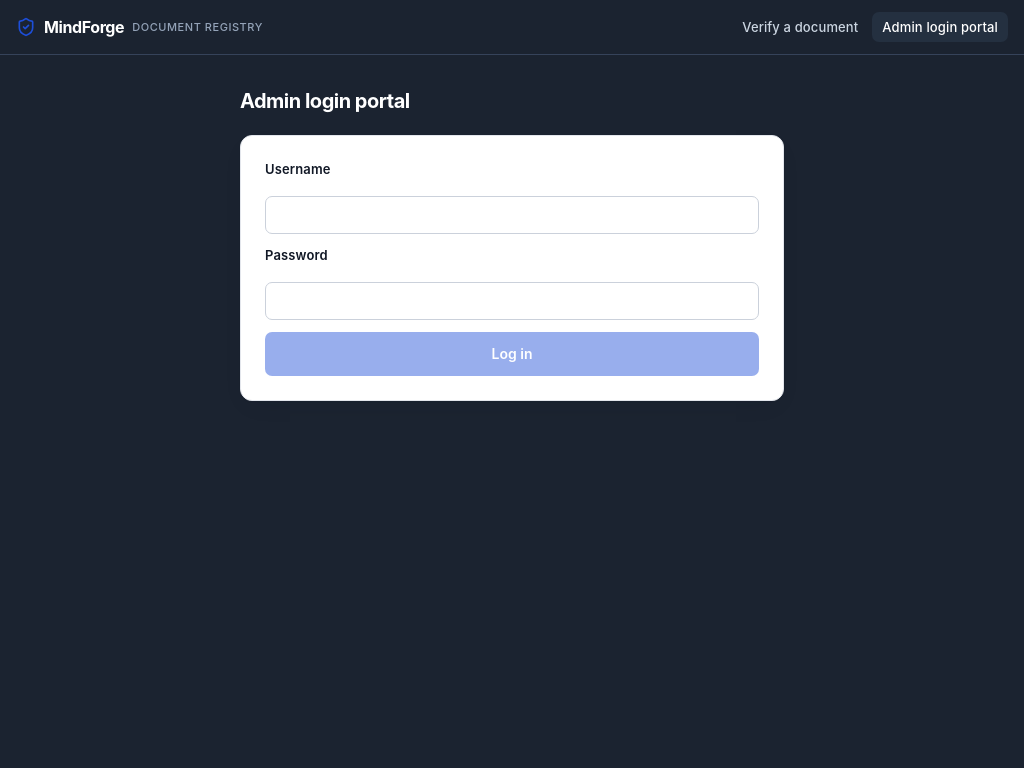
Scenario: routing and access › logging in shows the dashboard, and logging out hides it again
The width and height of the screenshot is (1024, 768).
Type "officer" into the field labelled "Username" at (512, 215), box x1=265 y1=196 x2=759 y2=234
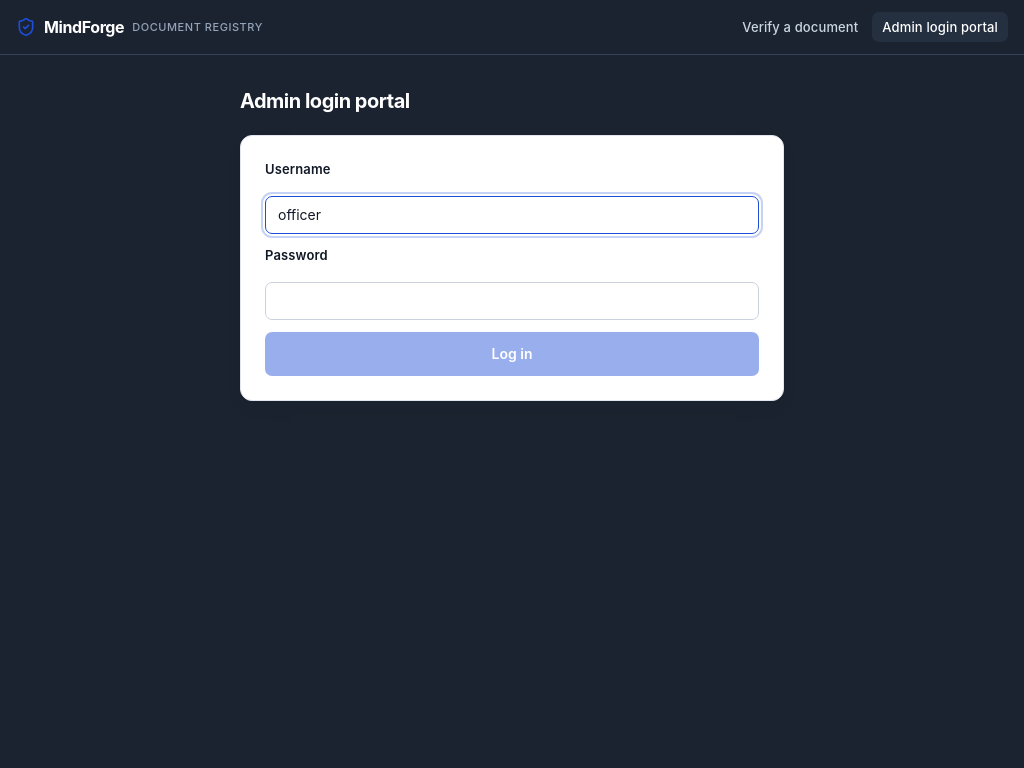
Type "correct horse" into the password field labelled "Password" at (512, 301), box x1=265 y1=282 x2=759 y2=320
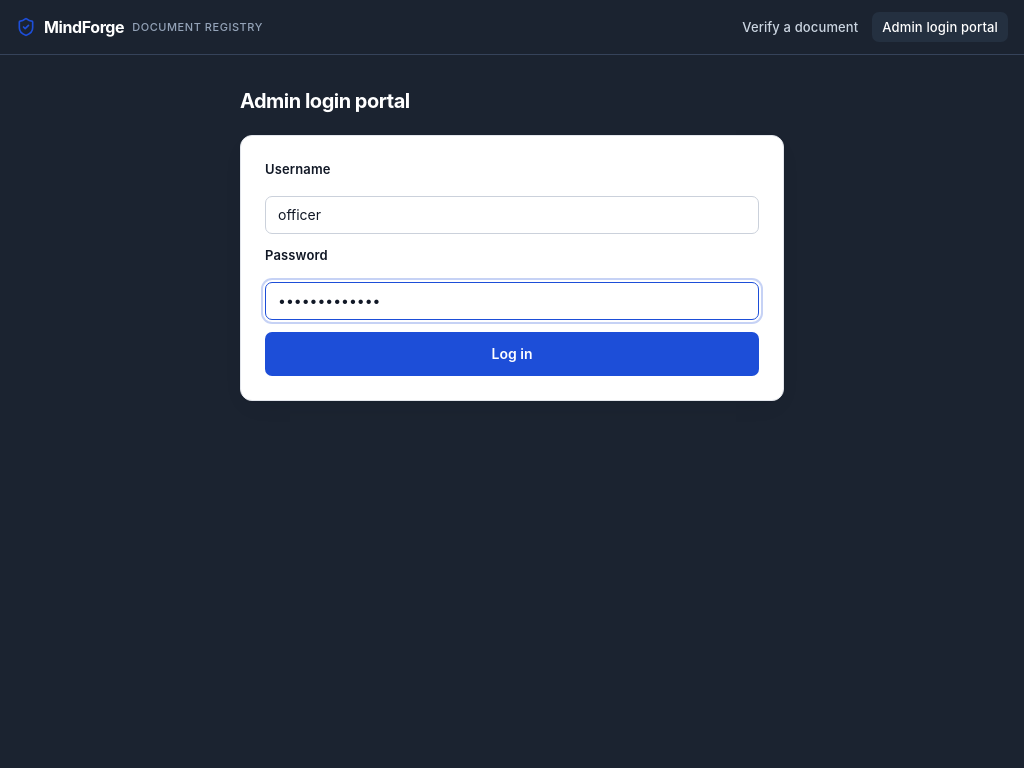
Click the button "Log in" at (512, 354), box x1=265 y1=332 x2=759 y2=376
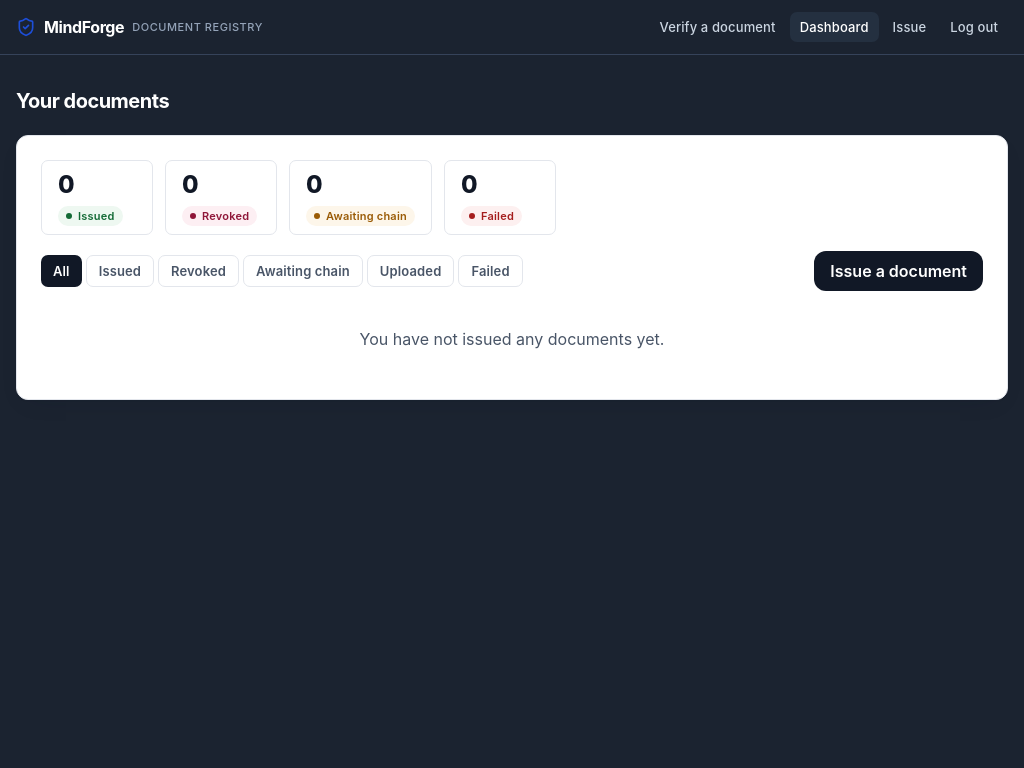
Check: the heading "Your documents" is shown, box x1=16 y1=89 x2=169 y2=113
Click the button "Log out" at (974, 27), box x1=940 y1=12 x2=1008 y2=42
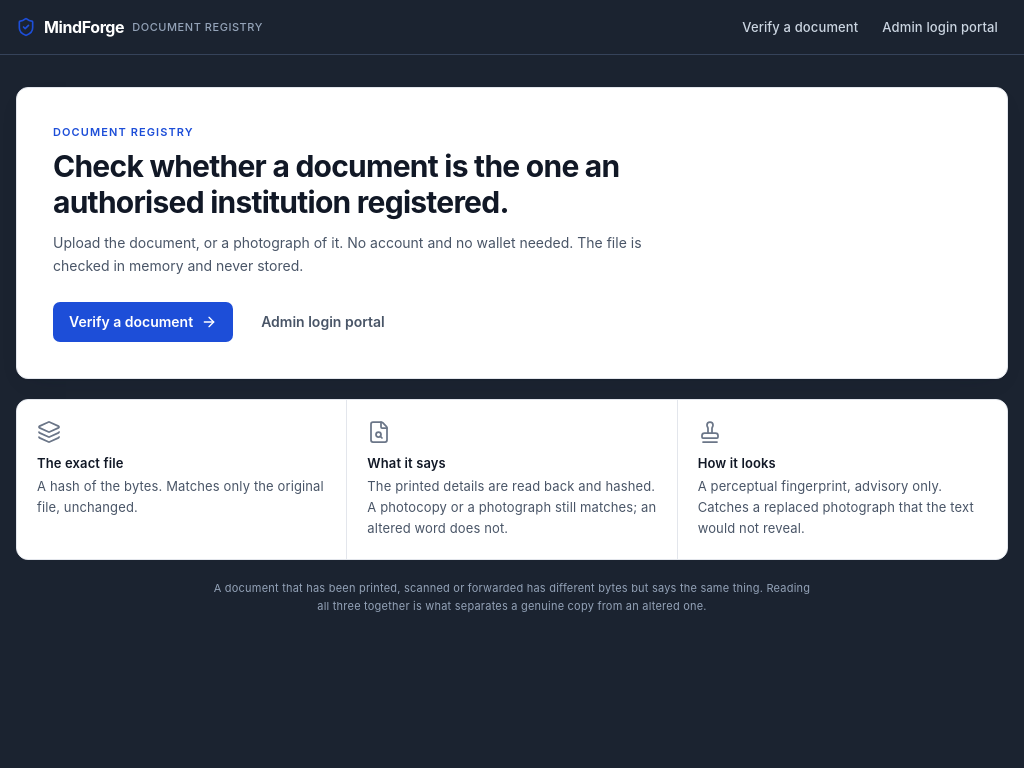
Check: the heading "authorised institution registered" is shown, box x1=53 y1=148 x2=661 y2=220
Check: the heading "Your documents" is gone
Check: the link "Admin login portal" in the row of "MindForge" is shown, box x1=882 y1=19 x2=998 y2=35
